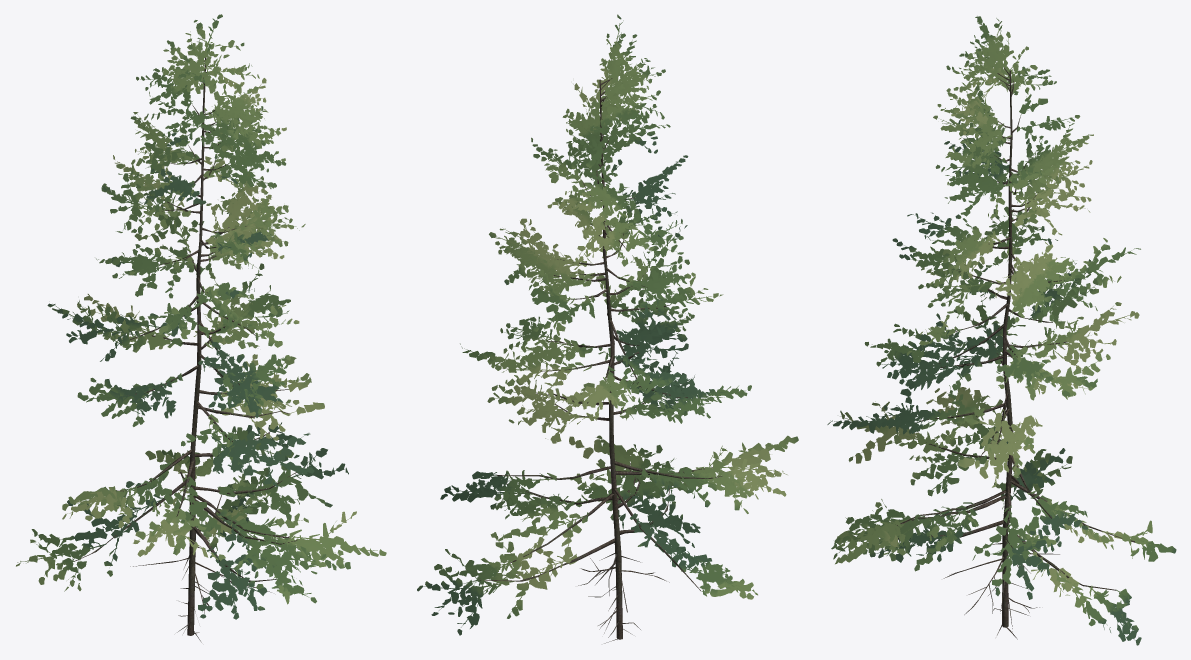
The model's file is grounded-conifer-clear.glb.
The picture shows the model from 3 angles, left to right: view 1: azimuth 30°, elevation 25°; view 2: azimuth 150°, elevation 25°; view 3: azimuth 270°, elevation 25°; orthographic projection. The views are drawn at different scales.
Visible parts, largest first — view 1: grounded-conifer-clear runtime mesh; view 2: grounded-conifer-clear runtime mesh; view 3: grounded-conifer-clear runtime mesh.
Part boxes in pixels (x1,y1,x2,y2): grounded-conifer-clear runtime mesh: (16,14,386,642); grounded-conifer-clear runtime mesh: (417,14,798,643); grounded-conifer-clear runtime mesh: (827,16,1176,645).
Size of the model in its own units: 3 by 5.58 by 2.81.
Materials: 3 (2 with a texture image).
